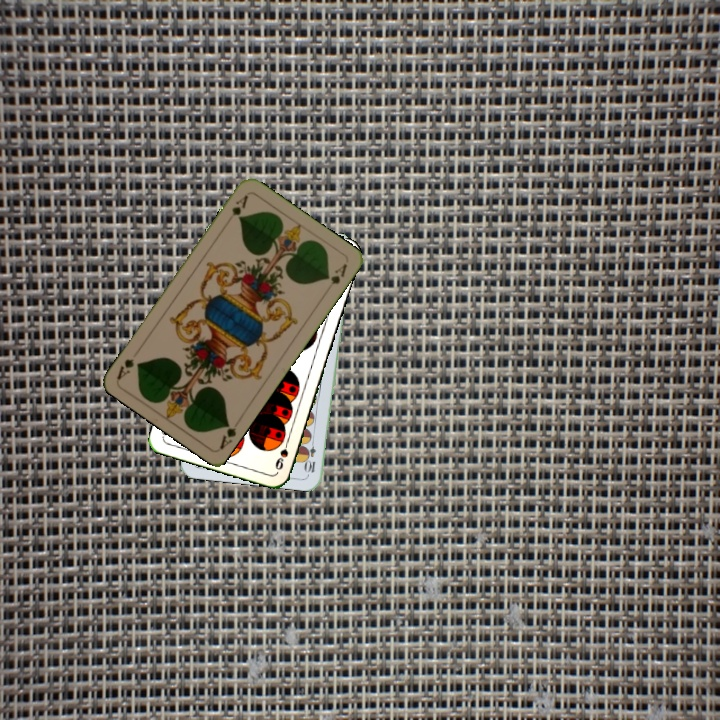E10: (303, 435, 319, 475)
GA: (223, 191, 251, 226), (216, 417, 239, 452)
S9: (271, 433, 292, 473)
